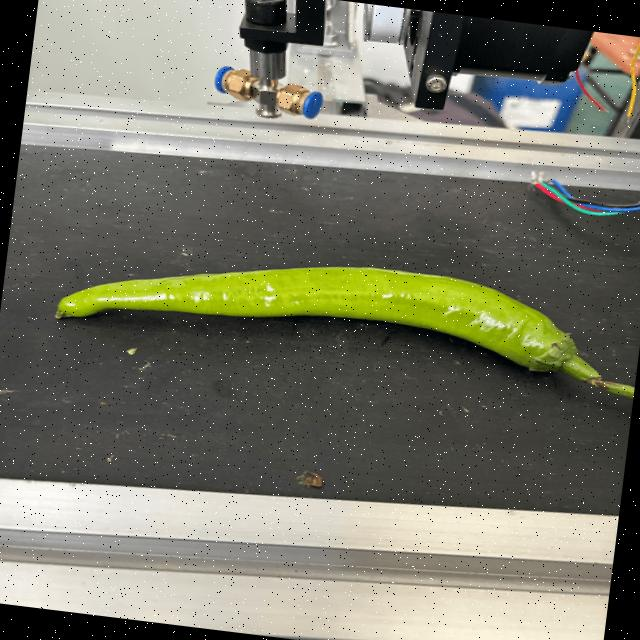chili: (51, 265, 577, 373)
